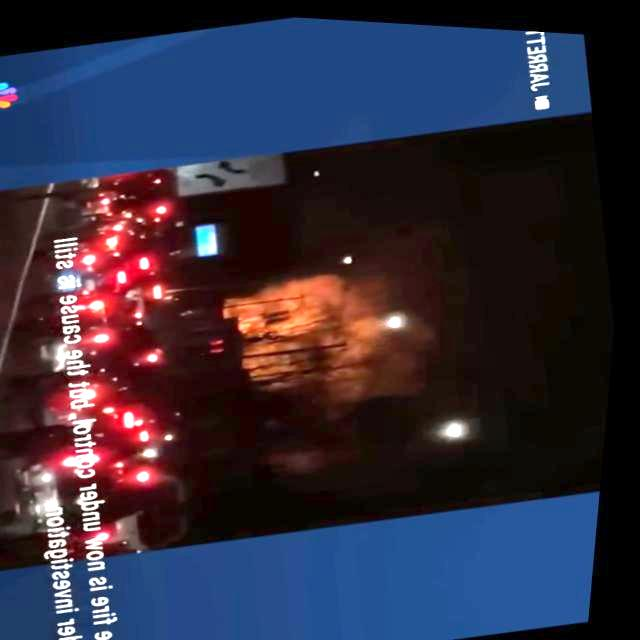fire: (232, 256, 392, 384)
